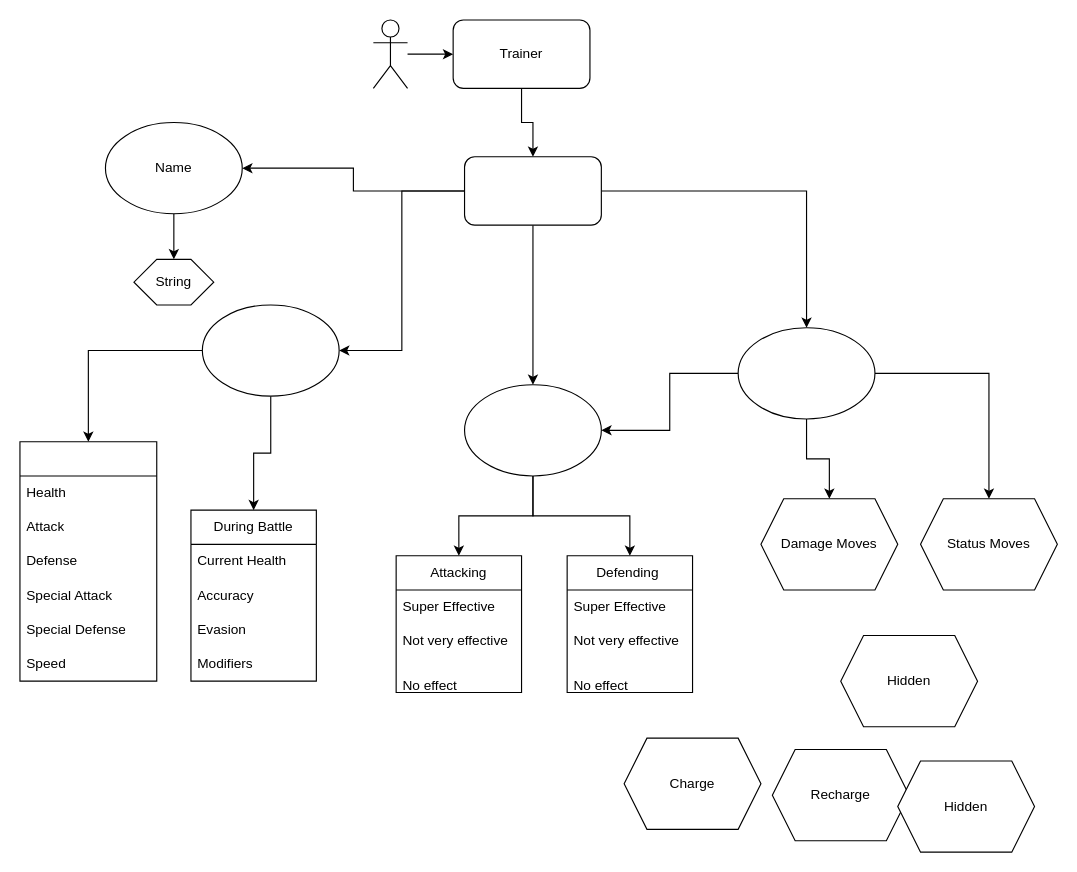
This 1077x872 diagram has some shape labels left out. The box of each missing label's shape, as (x1, y1, x2, y2) in pixels:
Battle Moves: (737, 327, 875, 419)
Beginning Stats: (19, 441, 157, 681)
Pokémon: (463, 156, 601, 225)
Stats: (201, 304, 339, 396)
Type(s): (463, 384, 601, 476)
User: (372, 19, 408, 88)
